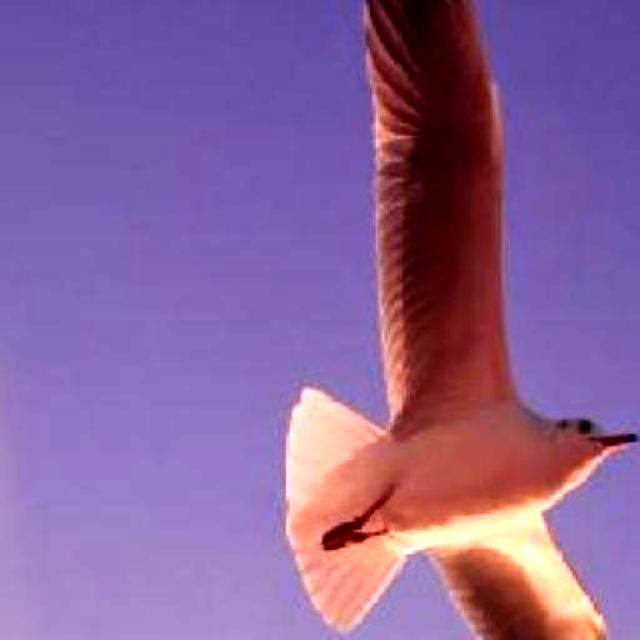airplane: (284, 0, 640, 640)
